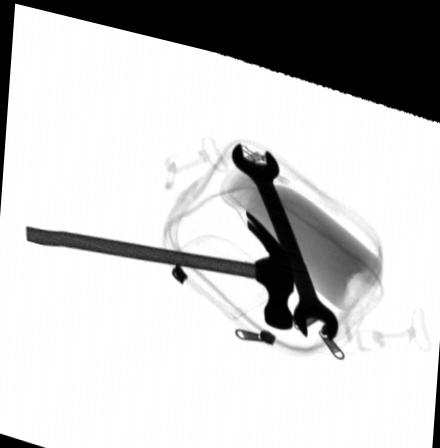Hammer: (26, 196, 296, 316)
Wrench: (231, 129, 338, 323)
